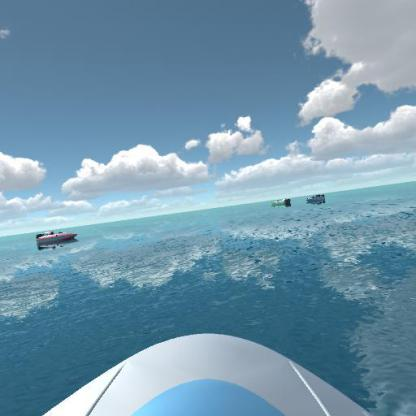usv0: (267, 194, 294, 210)
usv1: (301, 190, 334, 206)
usv3: (31, 226, 82, 248)
